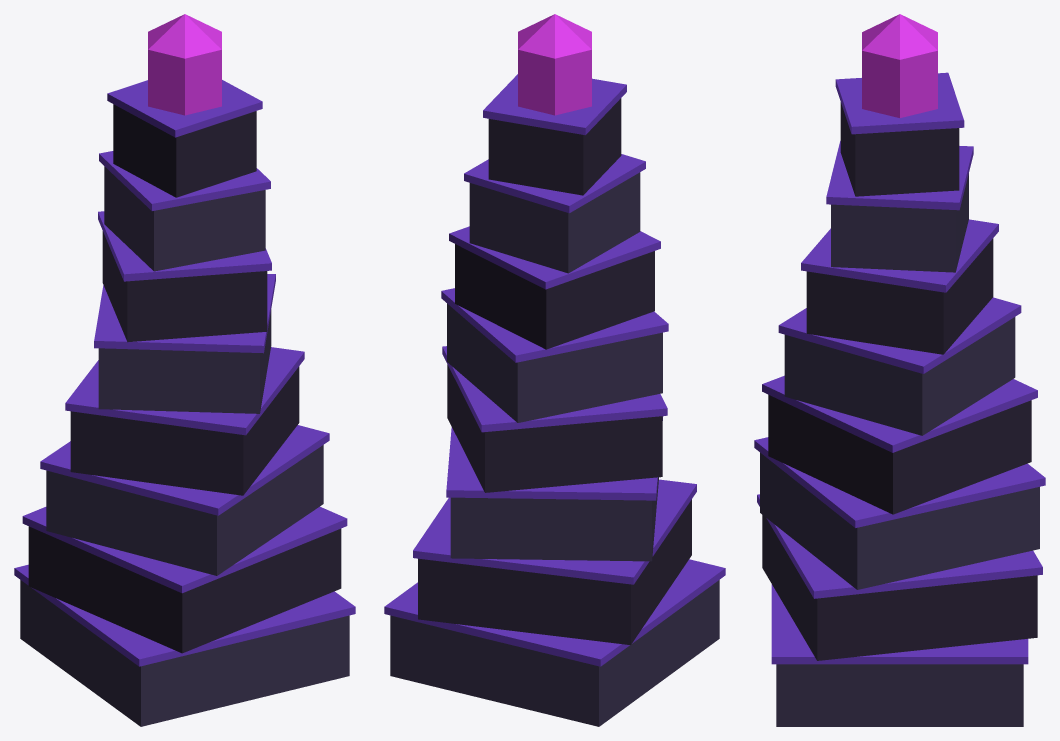
File: env_r16_obsidian_spire.glb
3 renders of one model, left to right at view 1: azimuth 30°, elevation 25°; view 2: azimuth 150°, elevation 25°; view 3: azimuth 270°, elevation 25°, orthographic. The views are drawn at different scales.
Parts seen in each view (by area): view 1: env_r16_obsidian_spire; view 2: env_r16_obsidian_spire; view 3: env_r16_obsidian_spire.
Part boxes in pixels (left/top/right/bottom): env_r16_obsidian_spire: left=14, top=14, right=355, bottom=726; env_r16_obsidian_spire: left=384, top=14, right=725, bottom=726; env_r16_obsidian_spire: left=754, top=14, right=1045, bottom=726.
Size of the model in its own units: 4.4 by 11 by 4.4.
Materials: 1 (1 with a texture image).
